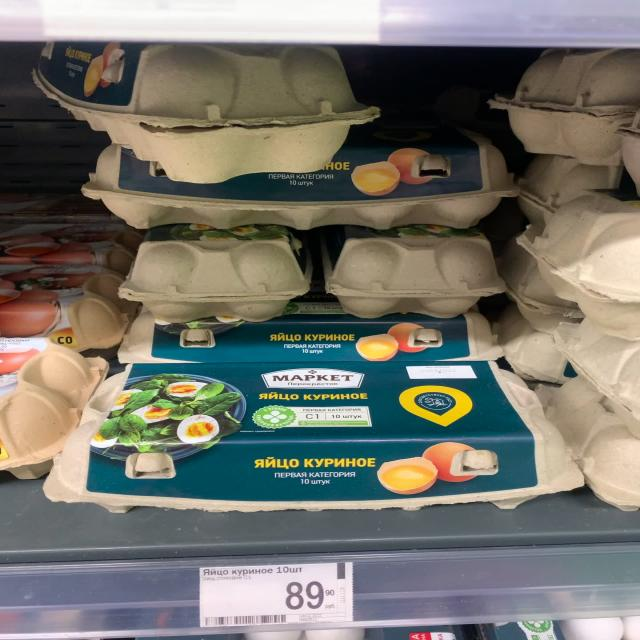egg box: (34, 360, 588, 513), (25, 40, 382, 184), (80, 127, 524, 233), (114, 306, 502, 362)
